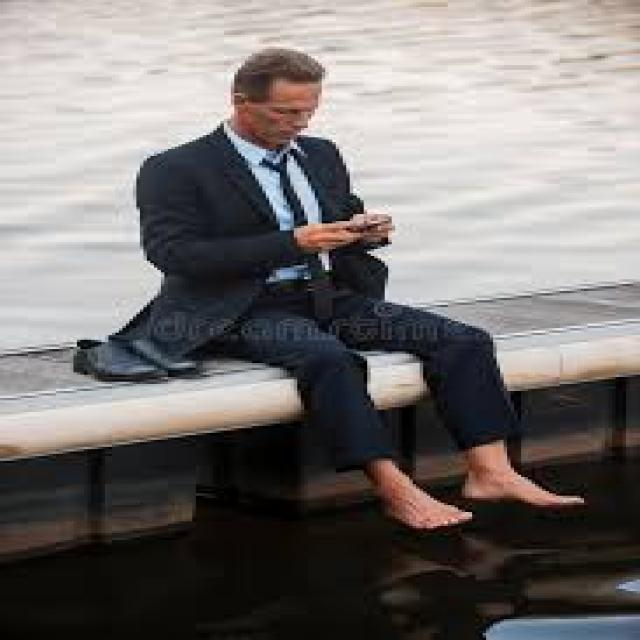No_Helmet: (233, 43, 328, 92)
No_Shoe: (364, 474, 477, 534), (458, 462, 579, 514)
